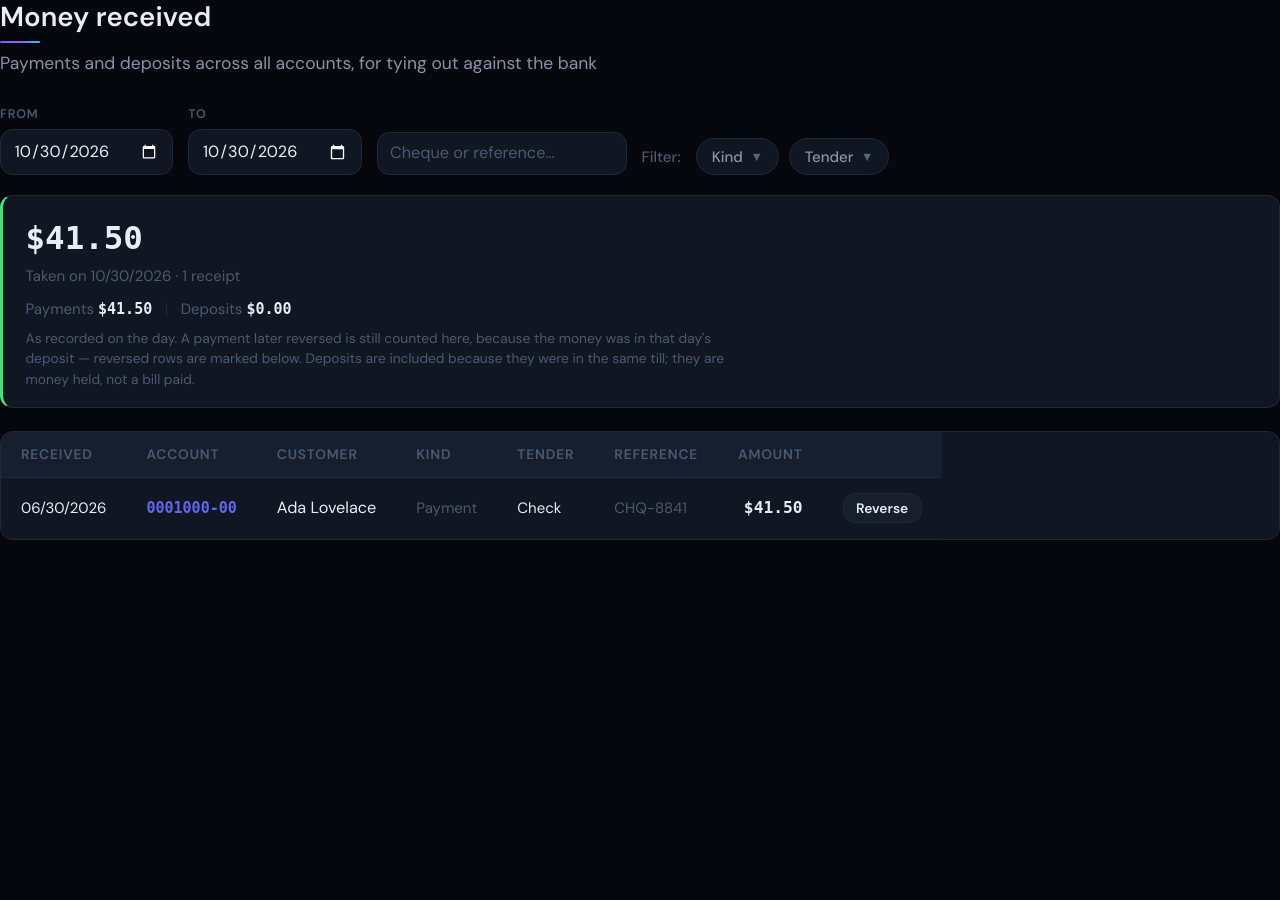
Test: Receipts page — reversing a receipt › names the act and says what it is not, before doing it
This screenshot has width=1280, height=900.
Click the button "Reverse".
click(882, 508)  # box [843,493,922,523]
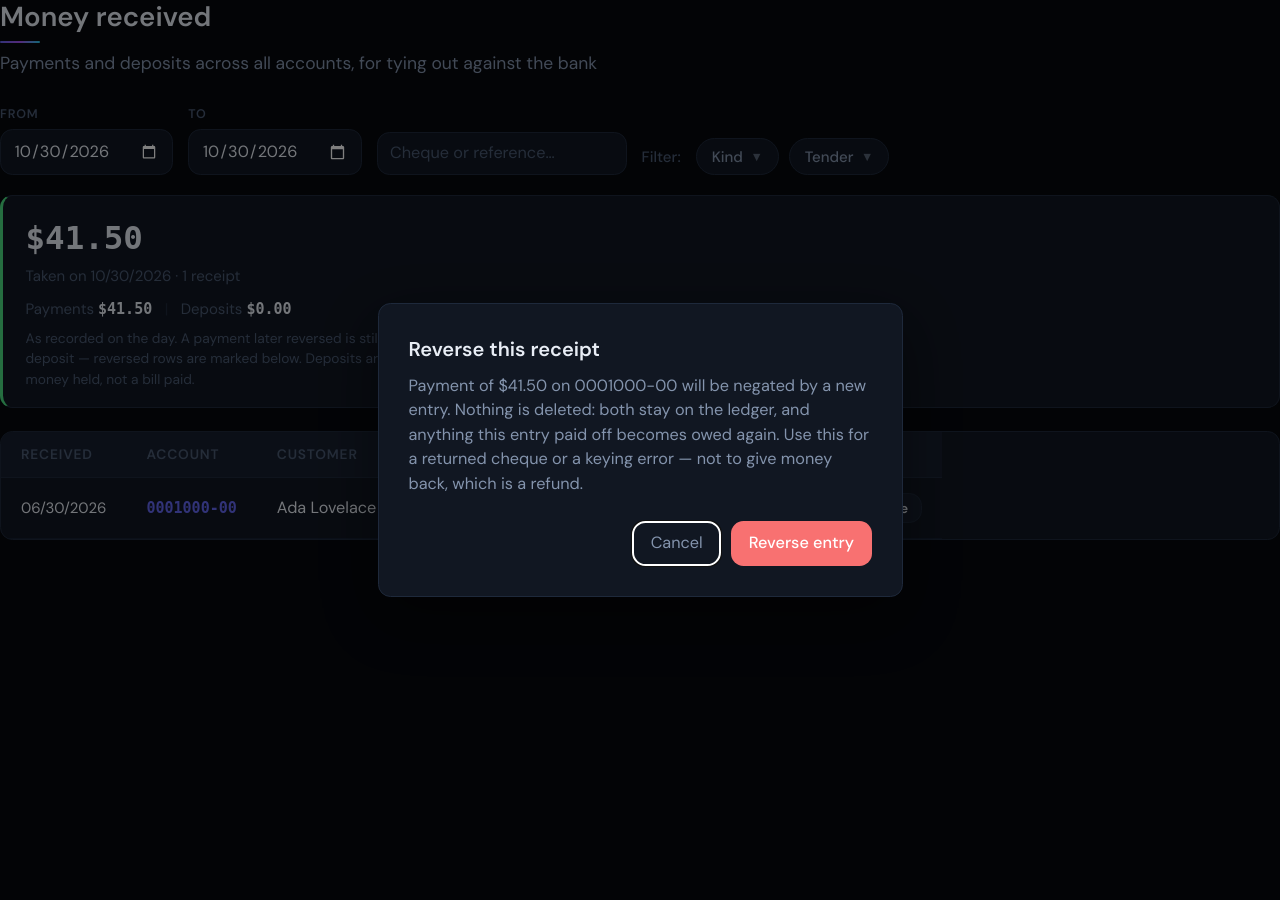
Result: the text "not to give money back, which is a refund" is shown at [408,375,869,494]
